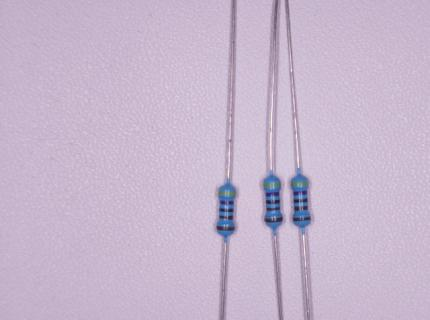Black band: (294, 198, 307, 203), (219, 209, 233, 213), (266, 200, 280, 204)
Brown band: (265, 217, 283, 223), (217, 226, 235, 231), (293, 216, 311, 221), (219, 215, 233, 220), (294, 206, 308, 211), (267, 207, 280, 211)
Violet band: (220, 200, 234, 205), (294, 190, 307, 195), (265, 192, 279, 196)
Yellow band: (218, 191, 236, 195), (263, 182, 280, 186), (291, 182, 308, 186)
